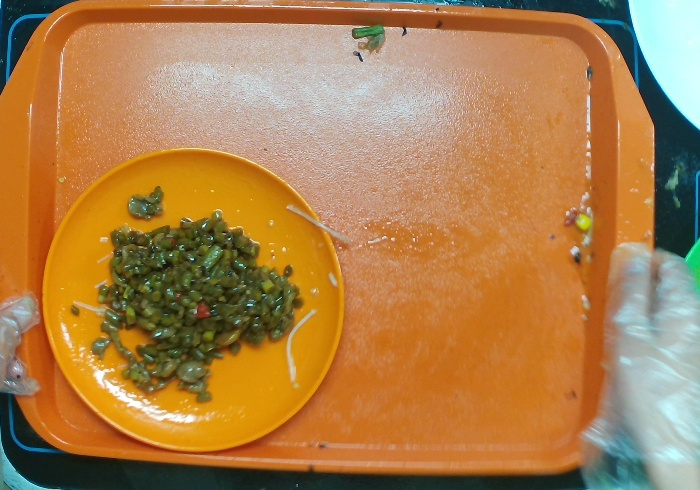HZYJPL-Ju_Huang_Yuan_Pan: (35, 148, 341, 454)
